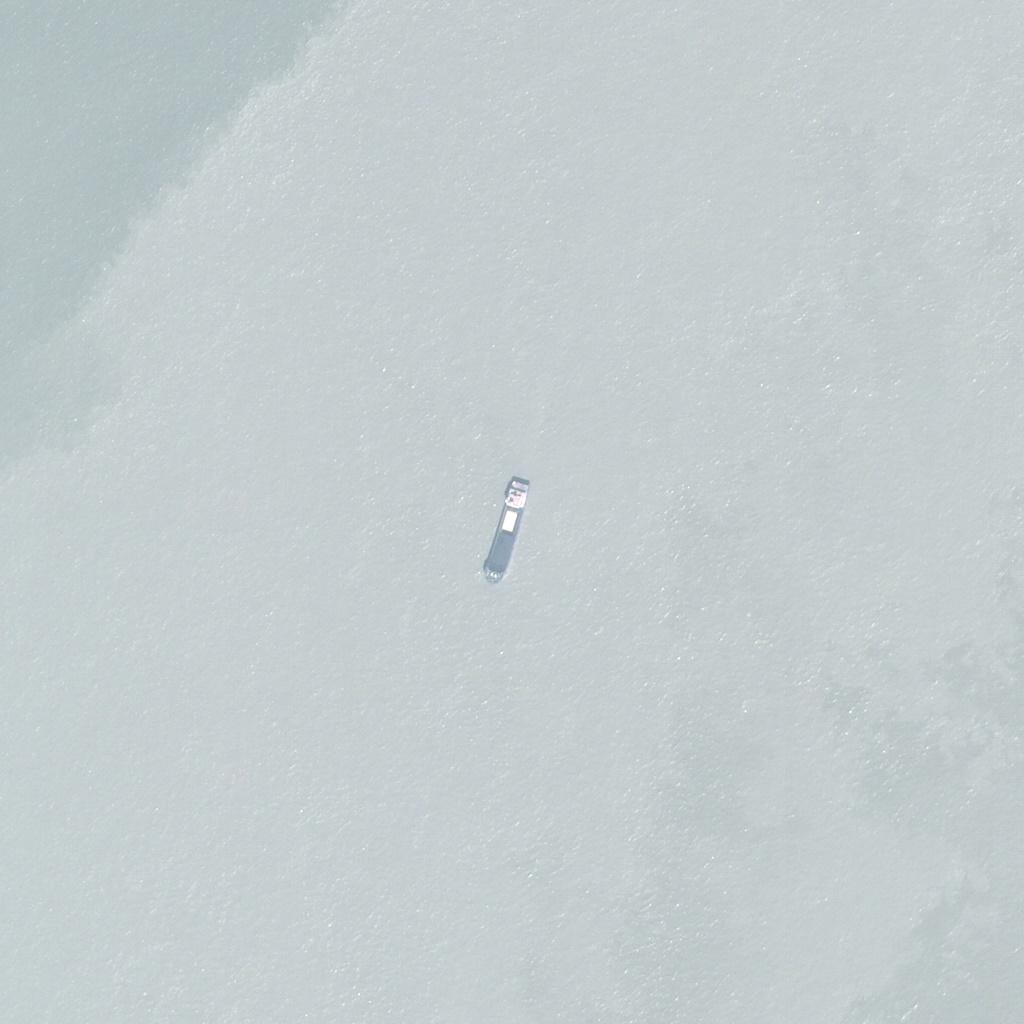ship: (485, 476, 532, 583)
